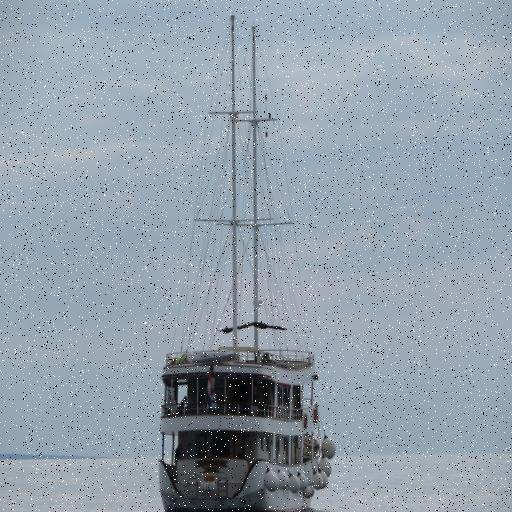cruises: (158, 341, 337, 512)
